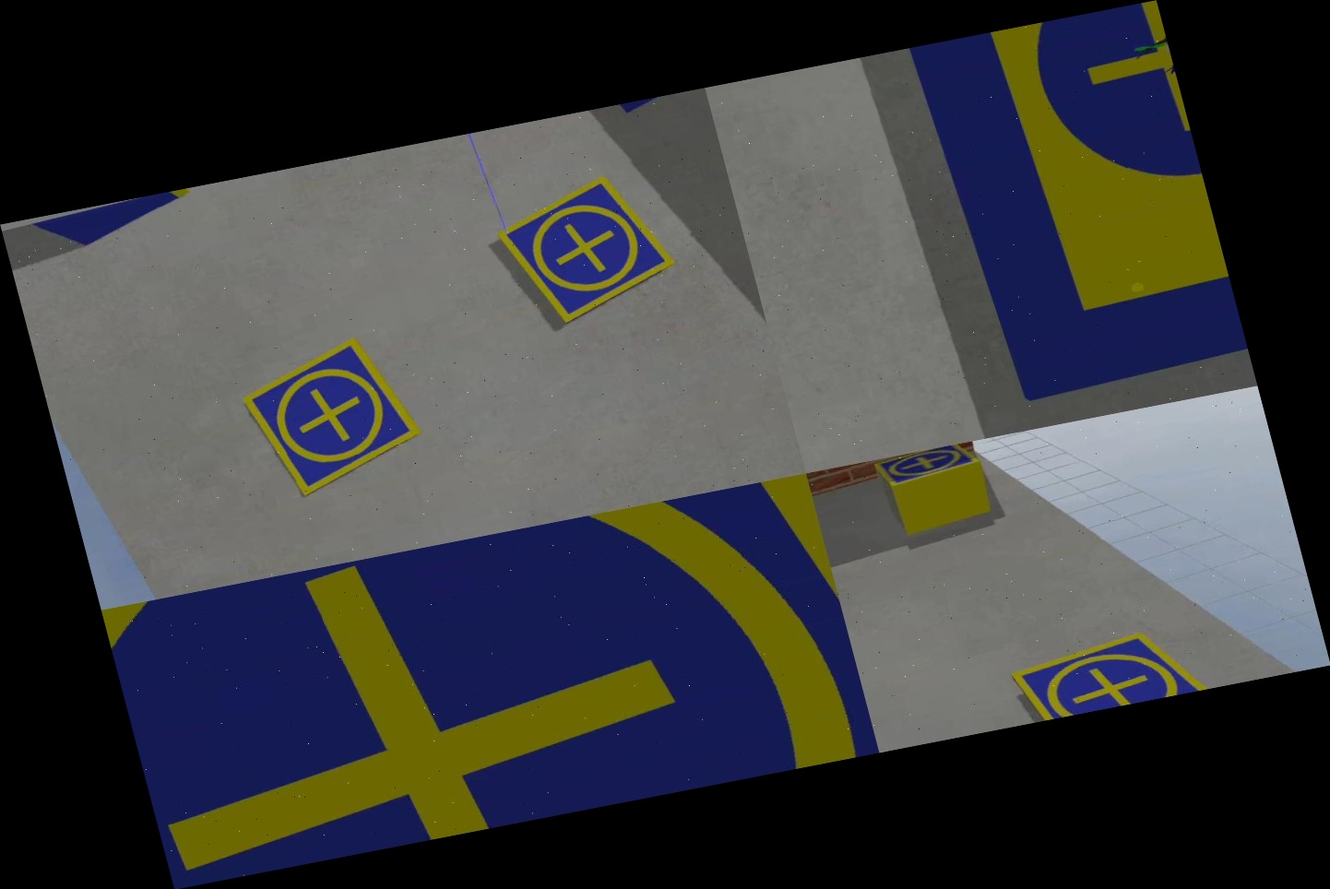large_base: (101, 473, 879, 889), (907, 0, 1249, 404)
small_base: (233, 329, 433, 505), (489, 167, 686, 331), (1007, 616, 1226, 724), (873, 440, 984, 494)
